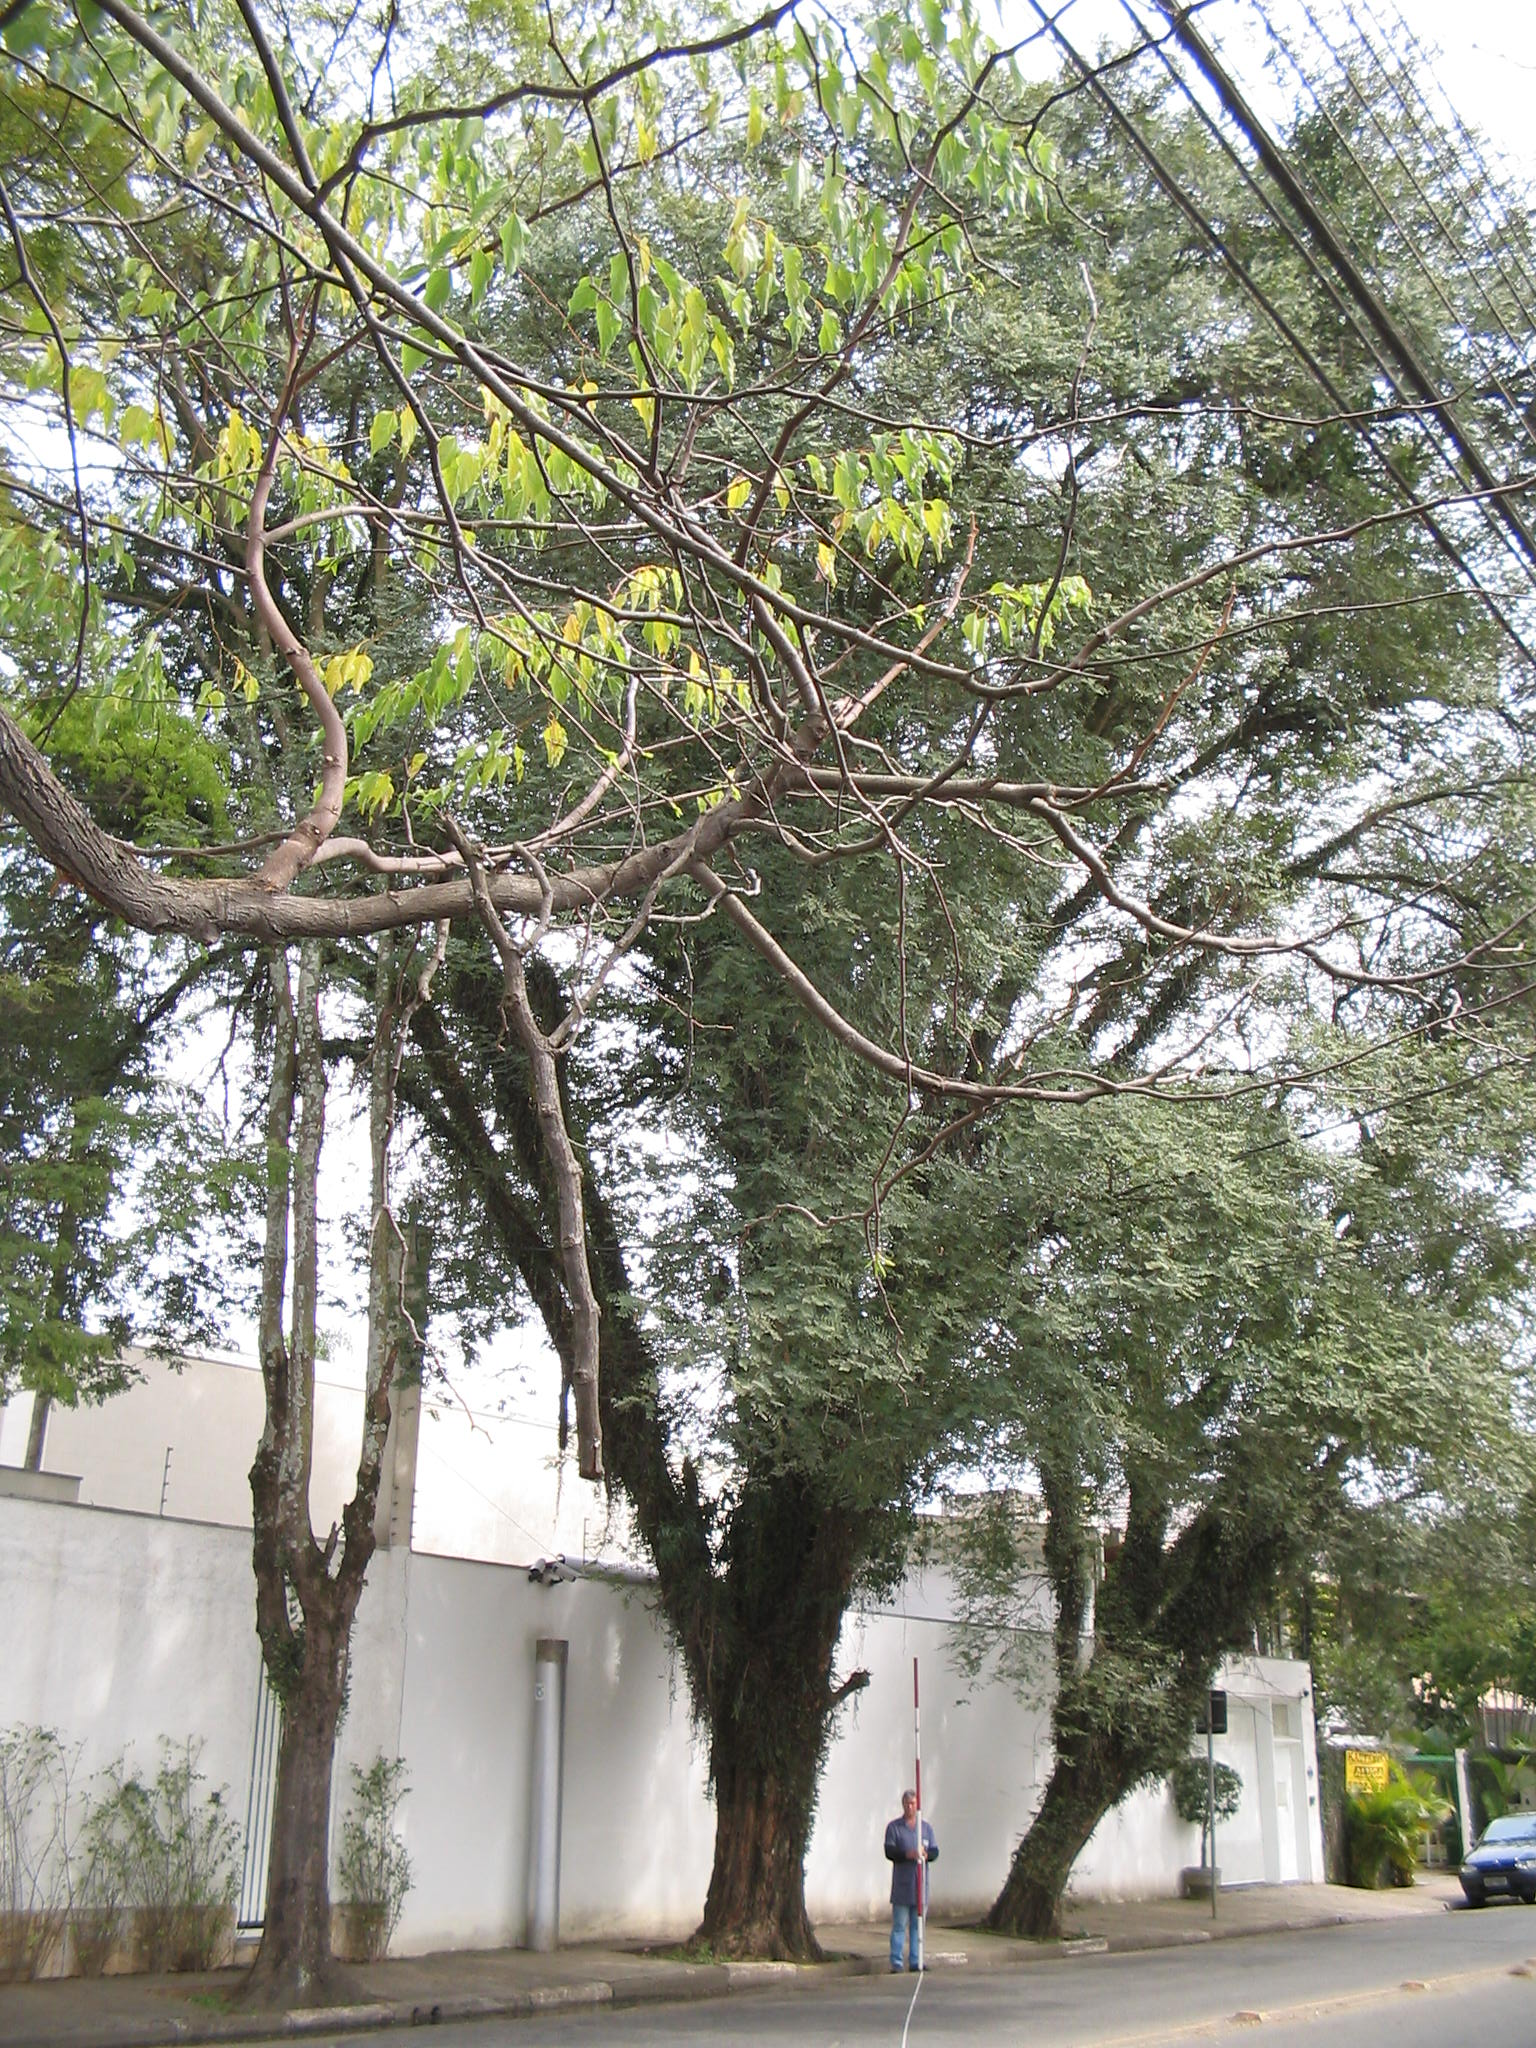crown: (369, 6, 1517, 1532), (963, 1101, 1533, 1706)
stem: (657, 1648, 870, 1964), (207, 1682, 374, 2006), (970, 1725, 1170, 1940)
stick: (895, 1655, 937, 1972)
tree: (361, 3, 1521, 1969), (8, 15, 712, 2011), (963, 1101, 1533, 1951)
